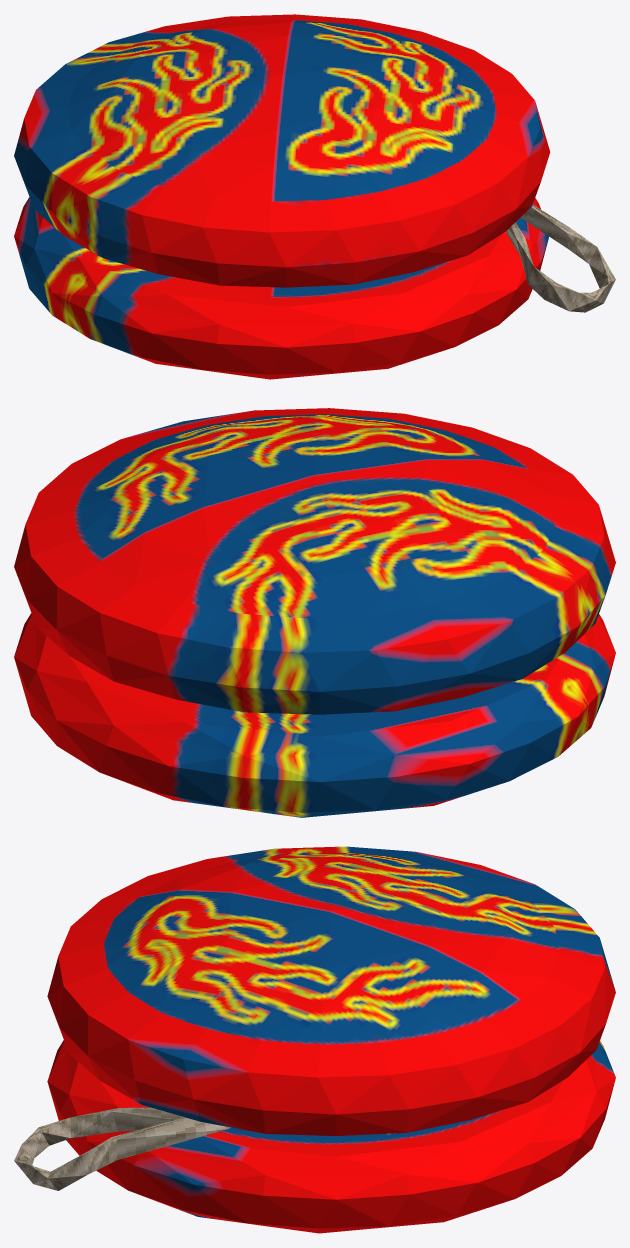
The model's file is yoyo_red_bake.dae.
The picture shows the model from 3 angles, top to bottom: view 1: azimuth 30°, elevation 25°; view 2: azimuth 150°, elevation 25°; view 3: azimuth 270°, elevation 25°; orthographic projection. The views are drawn at different scales.
Visible parts, largest first — view 1: m1, m0; view 2: m1; view 3: m1, m0.
Boxes of the visible parts, x1=… form: m1: x1=14, y1=14, x2=550, y2=379; m0: x1=506, y1=204, x2=615, y2=312; m1: x1=14, y1=408, x2=615, y2=817; m1: x1=47, y1=846, x2=615, y2=1233; m0: x1=14, y1=1107, x2=230, y2=1190.
Size of the model in its own units: 67.95 by 28.83 by 71.95.
3 materials, 3 textured.
